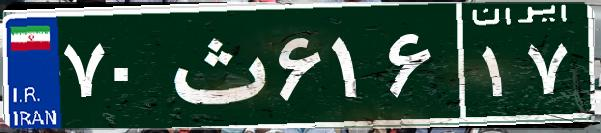0: (110, 28, 158, 105)
1: (330, 28, 385, 110), (475, 38, 525, 113)
6: (385, 28, 445, 110), (273, 28, 330, 110)
7: (57, 26, 110, 107), (525, 38, 570, 115)
ث: (158, 15, 273, 115)
